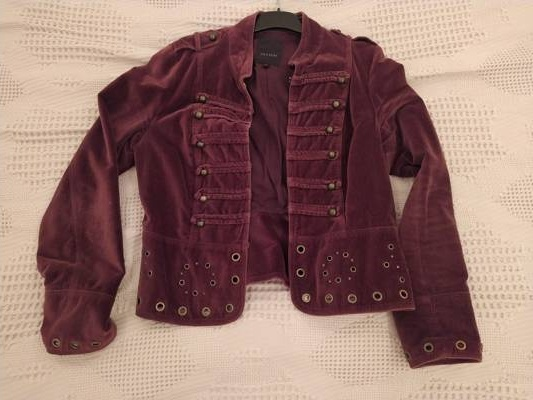Blazer: (27, 13, 477, 376)
